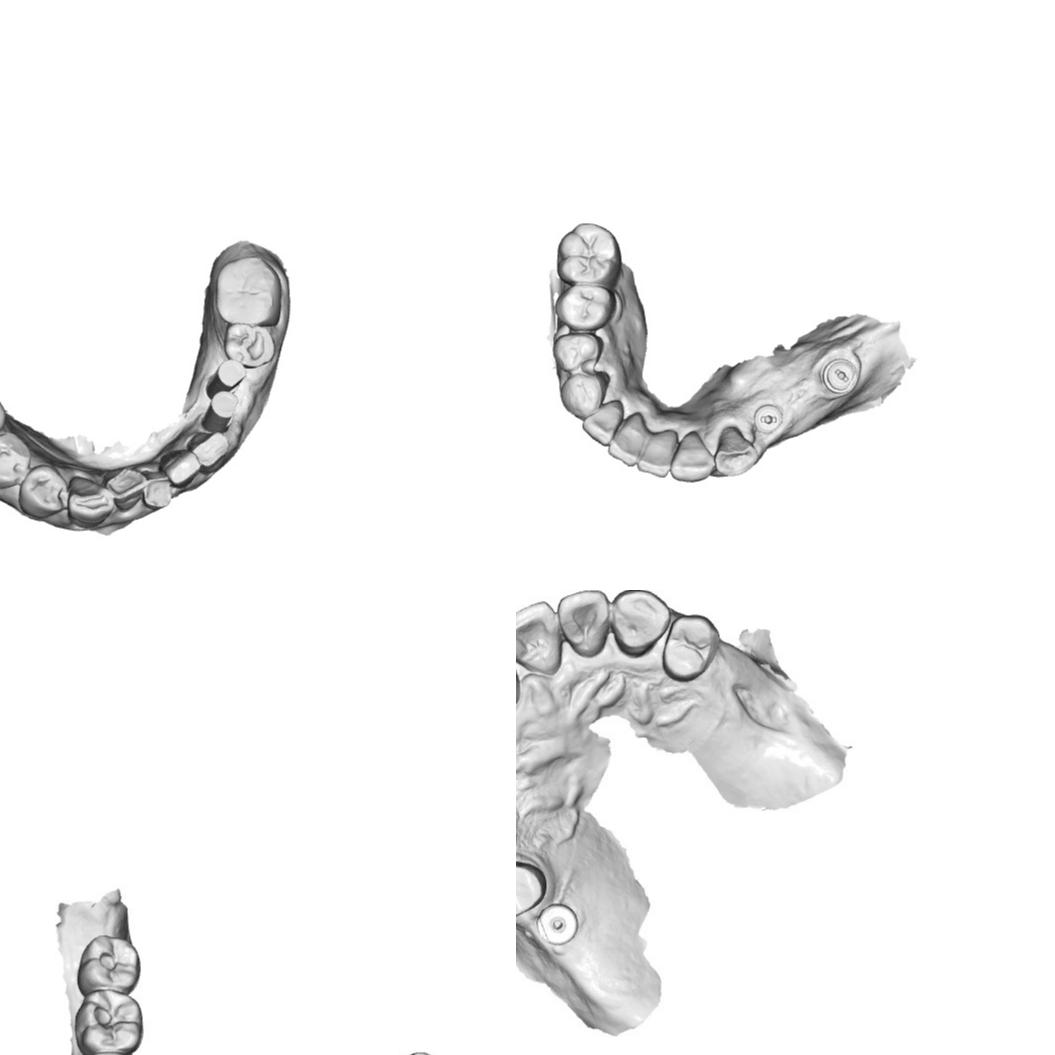abutment: (203, 358, 248, 399), (199, 387, 237, 435)
canine: (610, 590, 669, 658), (65, 473, 115, 527), (560, 370, 610, 420), (714, 426, 760, 477)
implant: (538, 902, 579, 948)
implant_minus: (821, 357, 858, 395), (752, 403, 784, 434)
incisor: (549, 590, 612, 663), (516, 601, 563, 673), (607, 411, 648, 467), (670, 430, 714, 482), (637, 428, 678, 478), (581, 399, 624, 446), (184, 429, 229, 473), (109, 460, 145, 511), (159, 447, 198, 492), (142, 470, 179, 515)
molar: (213, 255, 283, 327), (556, 222, 622, 288), (77, 991, 145, 1044), (76, 936, 139, 990)
premolar: (662, 611, 719, 686), (13, 462, 67, 521), (553, 282, 616, 330), (222, 320, 279, 371), (552, 331, 604, 372), (0, 430, 31, 491), (516, 859, 545, 923)
